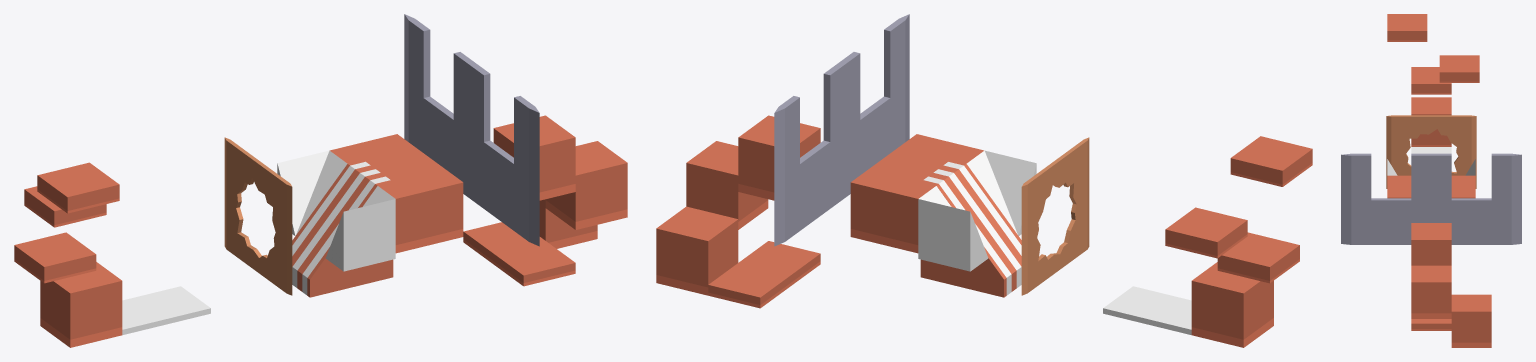
The model's file is Timed Jumps.model.fbx.
The picture shows the model from 3 angles, left to right: view 1: azimuth 30°, elevation 25°; view 2: azimuth 150°, elevation 25°; view 3: azimuth 270°, elevation 25°; orthographic projection. The views are drawn at different scales.
Visible parts, largest first — view 1: battlement_straight_6, awning_straight_9, block_3 (×2), wall_hole_13, block_14, block_4, slope_cornerInner_1, block_5, block_15, block_17, slope_cornerInner_0, block_default_11 (+5 smaller); view 2: battlement_straight_6, block_3 (×2), awning_straight_9, wall_hole_13, block_14, block_2, block_4, slope_cornerInner_0, block_5, block_17, block_16, slope_cornerInner_1 (+5 smaller); view 3: battlement_straight_6, wall_hole_13, block_3 (×2), block_4, block_5, block_14, block_16, block_17, block_15, block_2, block_low_1, block_default_11.
Part boxes in pixels (x1=…): battlement_straight_6: x1=404, y1=14, x2=539, y2=246; awning_straight_9: x1=292, y1=160, x2=393, y2=297; block_3 (×2): x1=378, y1=169, x2=597, y2=253; wall_hole_13: x1=224, y1=137, x2=292, y2=295; block_14: x1=40, y1=262, x2=122, y2=347; block_4: x1=545, y1=141, x2=627, y2=229; slope_cornerInner_1: x1=325, y1=186, x2=395, y2=271; block_5: x1=493, y1=115, x2=575, y2=200; block_15: x1=14, y1=232, x2=96, y2=283; block_17: x1=37, y1=162, x2=119, y2=213; slope_cornerInner_0: x1=277, y1=150, x2=347, y2=235; block_default_11: x1=122, y1=286, x2=210, y2=335; battlement_straight_6: x1=774, y1=14, x2=909, y2=246; block_3 (×2): x1=656, y1=134, x2=983, y2=295; awning_straight_9: x1=920, y1=160, x2=1021, y2=297; wall_hole_13: x1=1021, y1=137, x2=1089, y2=295; block_14: x1=1191, y1=262, x2=1273, y2=347; block_2: x1=850, y1=169, x2=935, y2=253; block_4: x1=686, y1=141, x2=768, y2=229; slope_cornerInner_0: x1=918, y1=186, x2=988, y2=271; block_5: x1=738, y1=115, x2=820, y2=200; block_17: x1=1230, y1=136, x2=1312, y2=186; block_16: x1=1165, y1=207, x2=1247, y2=258; slope_cornerInner_1: x1=966, y1=150, x2=1036, y2=235; battlement_straight_6: x1=1341, y1=153, x2=1521, y2=244; wall_hole_13: x1=1386, y1=115, x2=1476, y2=188; block_3 (×2): x1=1387, y1=175, x2=1491, y2=347; block_4: x1=1411, y1=265, x2=1451, y2=318; block_5: x1=1411, y1=223, x2=1451, y2=265; block_14: x1=1411, y1=97, x2=1451, y2=146; block_16: x1=1439, y1=55, x2=1479, y2=82; block_17: x1=1387, y1=14, x2=1427, y2=41; block_15: x1=1411, y1=67, x2=1451, y2=94; block_2: x1=1451, y1=175, x2=1475, y2=198; block_low_1: x1=1411, y1=319, x2=1451, y2=330; block_default_11: x1=1411, y1=147, x2=1451, y2=153.
Bounding box in the file's own units: 112 × 40.5 × 45.
